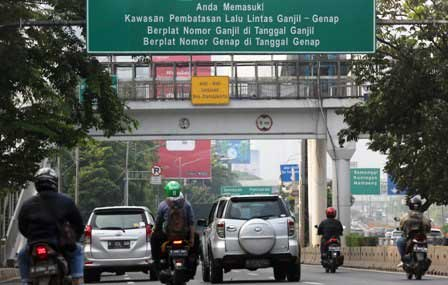plate: (29, 265, 58, 277), (245, 258, 269, 269), (108, 240, 129, 250), (169, 248, 187, 257), (327, 245, 341, 251), (413, 246, 427, 252)
